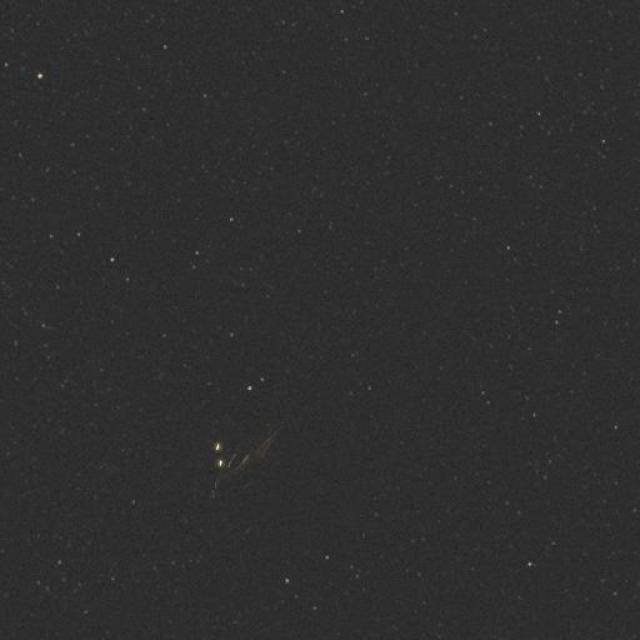earth_observation_sat_1: (168, 405, 415, 536)
